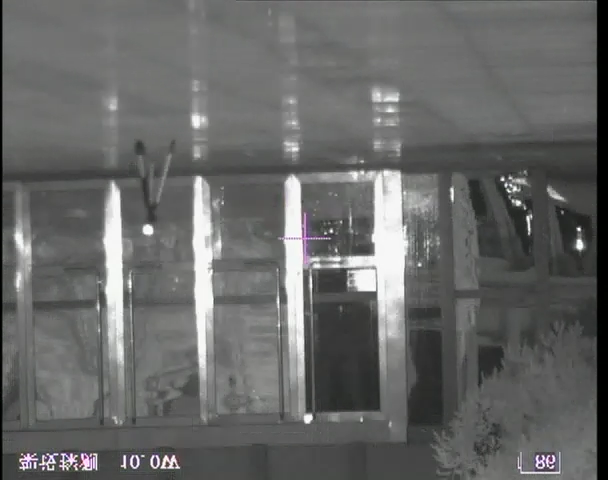my: (141, 223, 154, 237)
